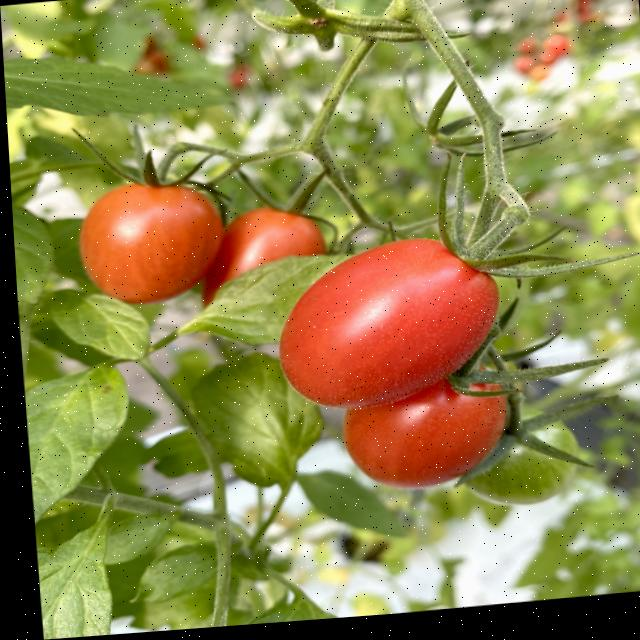ripe2: (271, 231, 509, 412), (338, 365, 520, 493), (75, 173, 225, 311), (221, 199, 327, 263)
